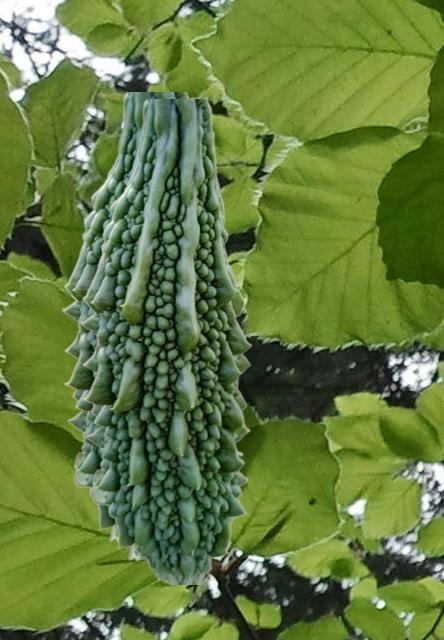ampalaya: (79, 99, 251, 583), (61, 92, 190, 563)
